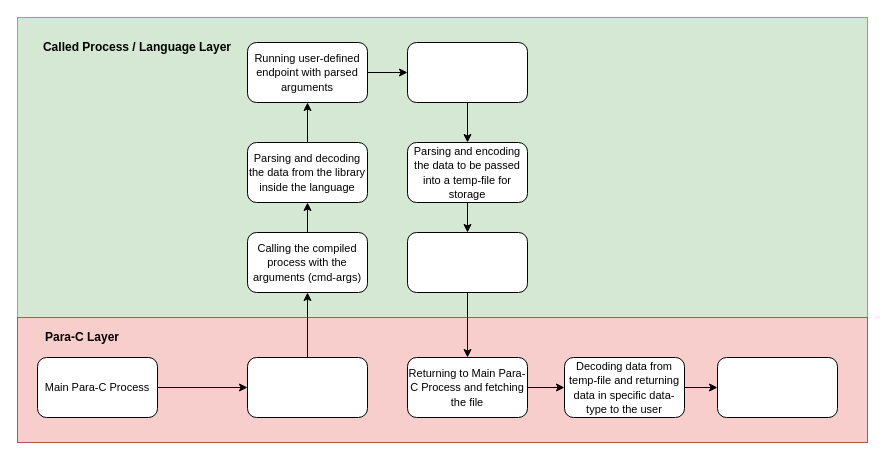
Some shapes in this 885 by 460 pixel diagram are drawn without their labels. The shapes that lost their labels are listed below. From the top down, each one's centre as x and y in pixels, then its label:
At pixel 467 72: "Returning from Process with user-defined return data".
At pixel 467 262: "Stopping the Process and writing to the temp-file".
At pixel 307 387: "Spawning a Task with user-defined arguments".
At pixel 777 387: "Contuining in user-defined Para-C code".
